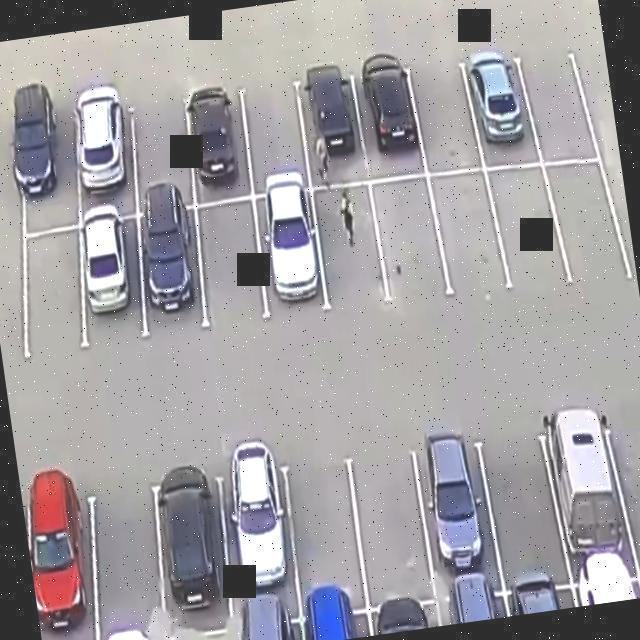space-empty: (83, 497, 174, 639), (9, 232, 97, 363), (485, 437, 564, 581), (288, 463, 371, 599), (354, 454, 434, 594), (198, 197, 270, 330), (488, 169, 561, 296), (550, 162, 621, 292), (370, 177, 443, 299), (435, 172, 504, 300), (310, 186, 382, 297), (239, 78, 308, 188), (129, 95, 199, 202), (524, 50, 587, 164), (412, 69, 474, 164), (612, 433, 640, 575)
space-occupied: (147, 477, 238, 631), (22, 490, 104, 640), (219, 467, 306, 607), (419, 448, 501, 594), (135, 204, 216, 339), (548, 431, 621, 576), (11, 93, 82, 224), (76, 215, 149, 339), (189, 91, 258, 205), (257, 193, 326, 307), (296, 74, 368, 182), (471, 64, 539, 169), (355, 68, 422, 173), (78, 110, 144, 206)
